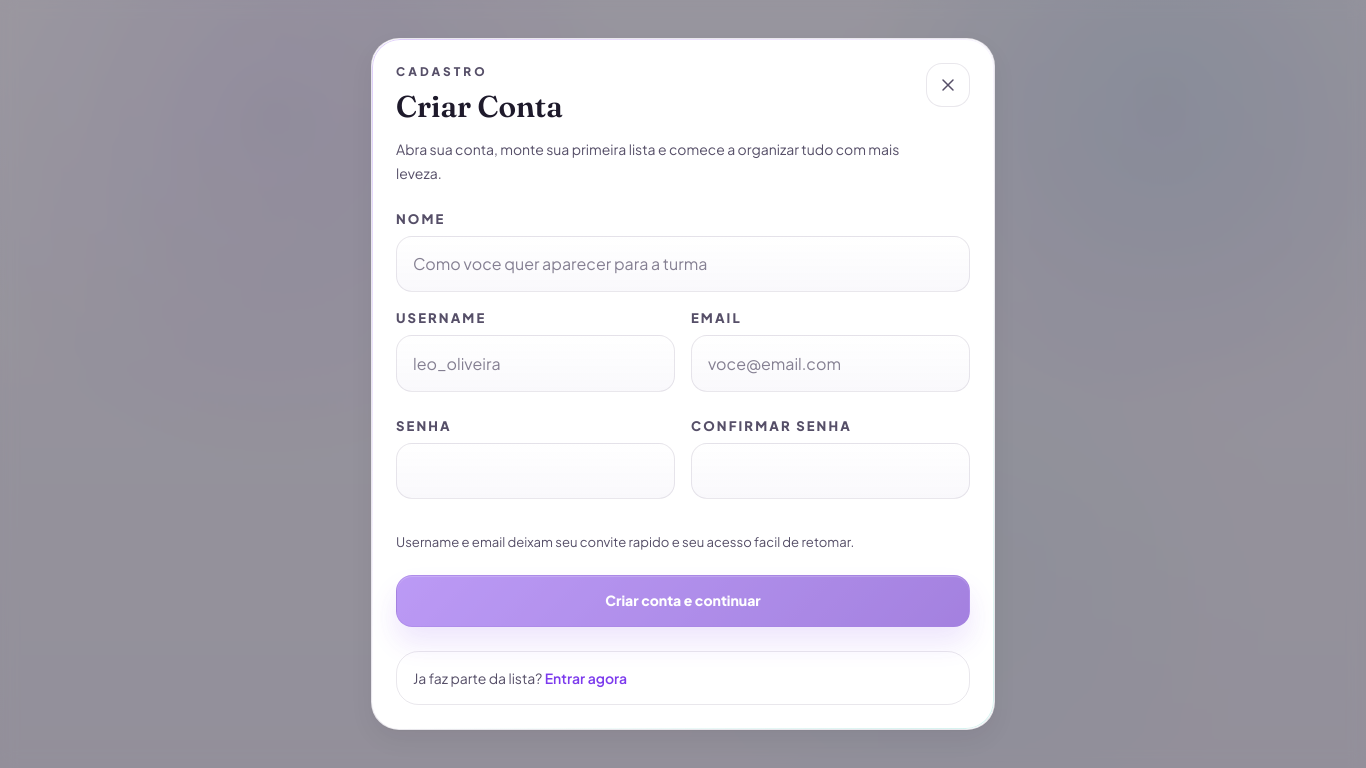
it: RegisterModal › mostra erro quando as senhas nao conferem
The width and height of the screenshot is (1366, 768).
Type "leo_user" into the field labelled "Username" at (536, 364), box [396,335,675,392]
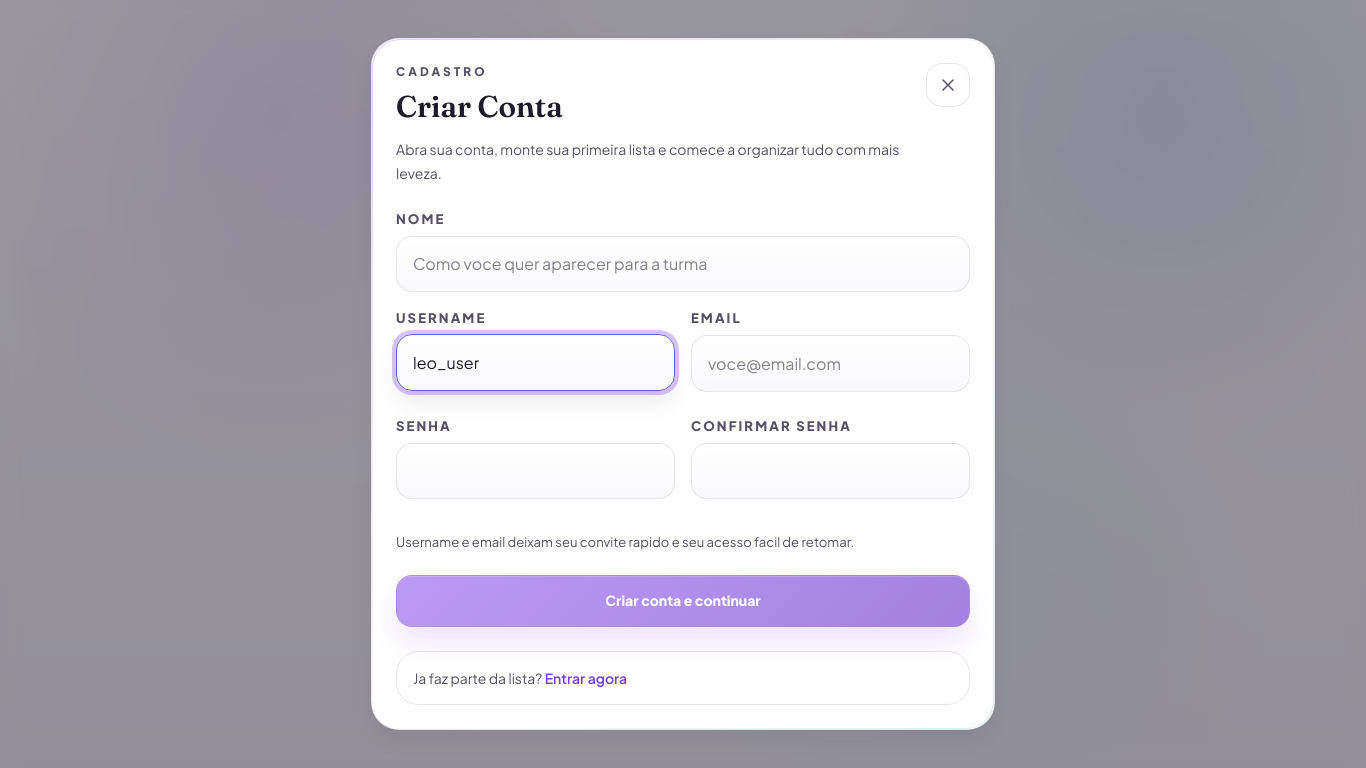
Type "leo@test.com" into the field labelled "Email" at (830, 364), box [691,335,970,392]
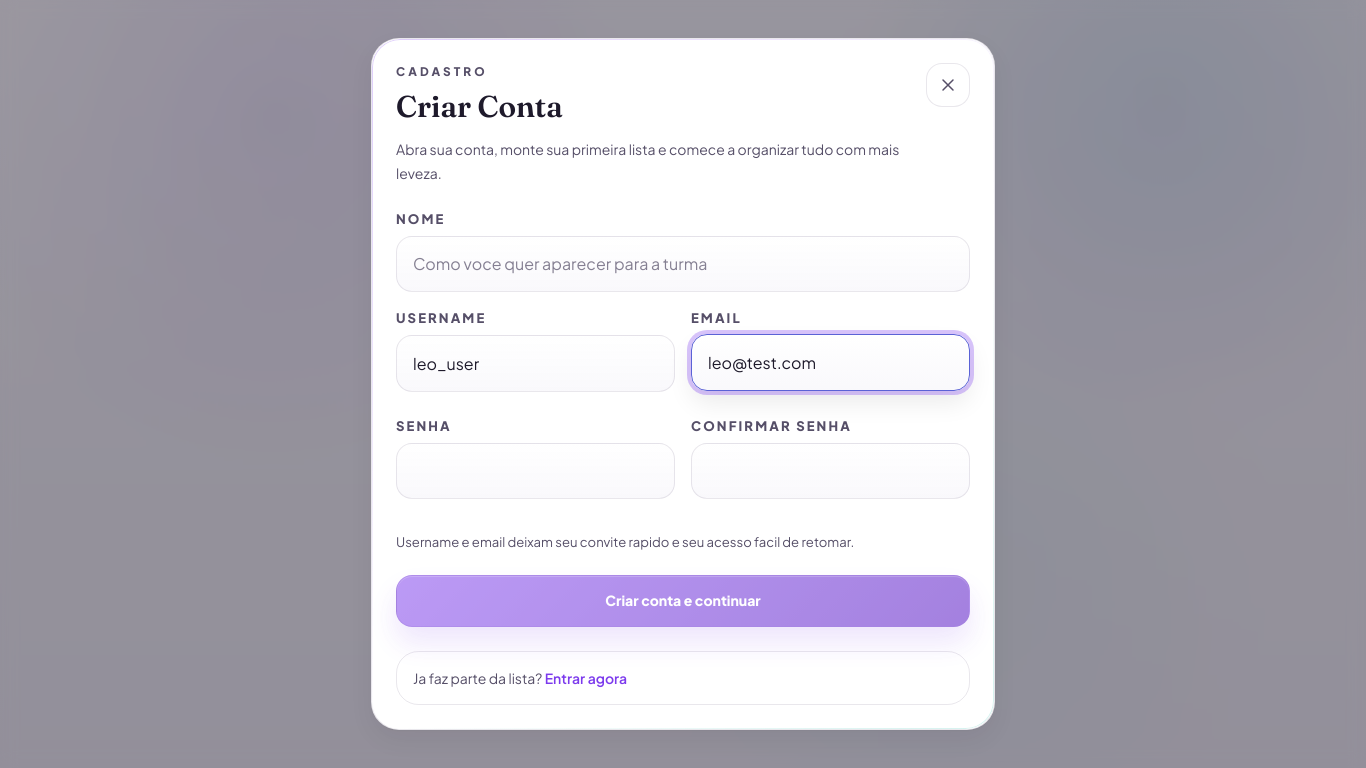
Type "123456" into the password field labelled "Senha" at (536, 471), box [396,443,675,499]
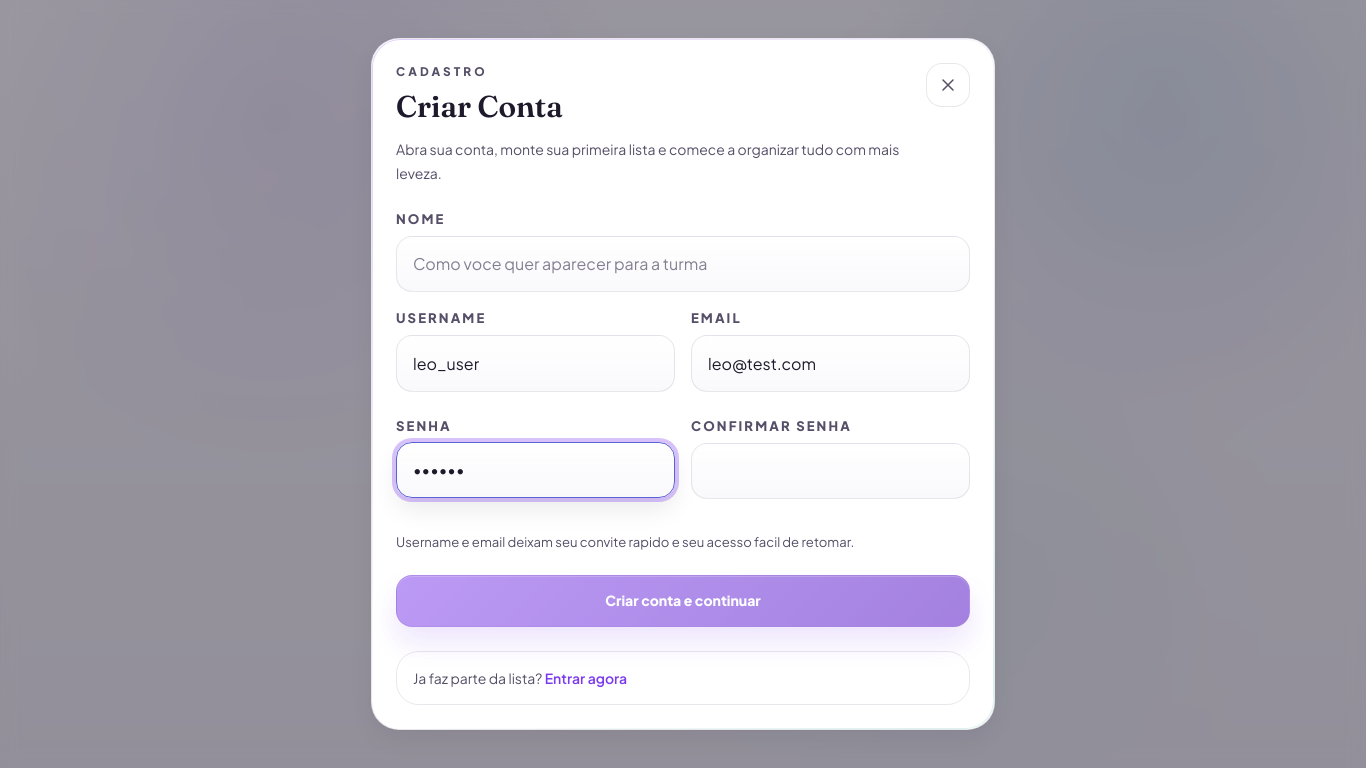
Type "abcdef" into the password field labelled "Confirmar senha" at (830, 471), box [691,443,970,499]
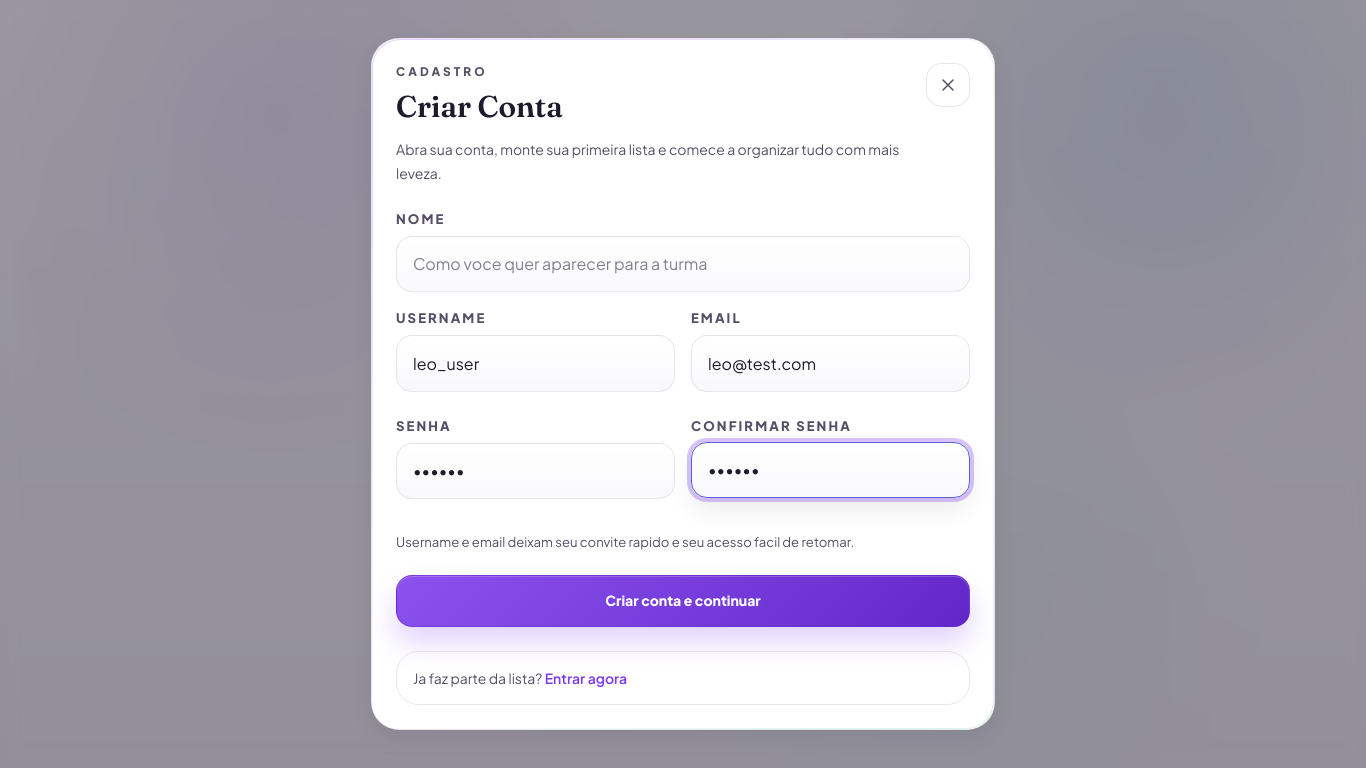
Click the button "Criar conta e continuar" at (683, 601), box [396,575,970,627]
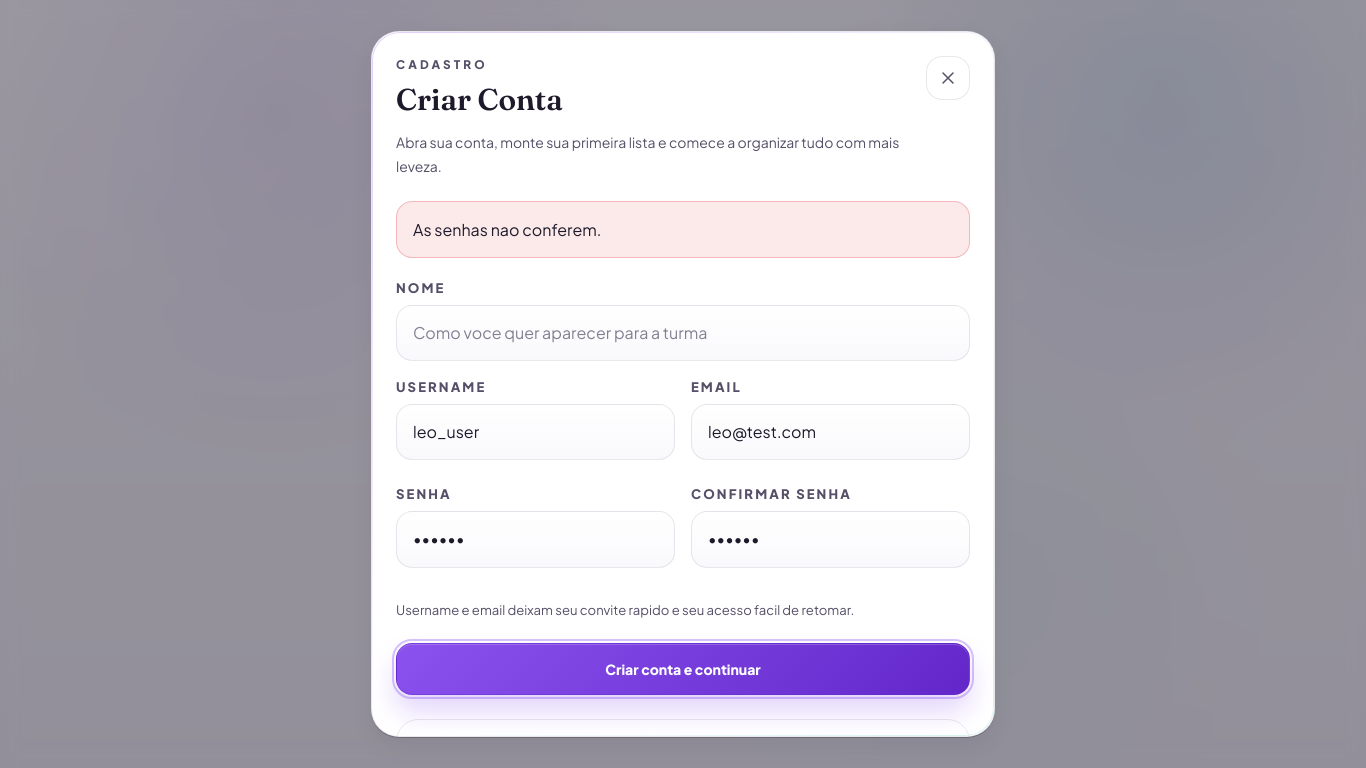
expect the text "As senhas nao conferem." is shown: met, box [396,202,970,258]
